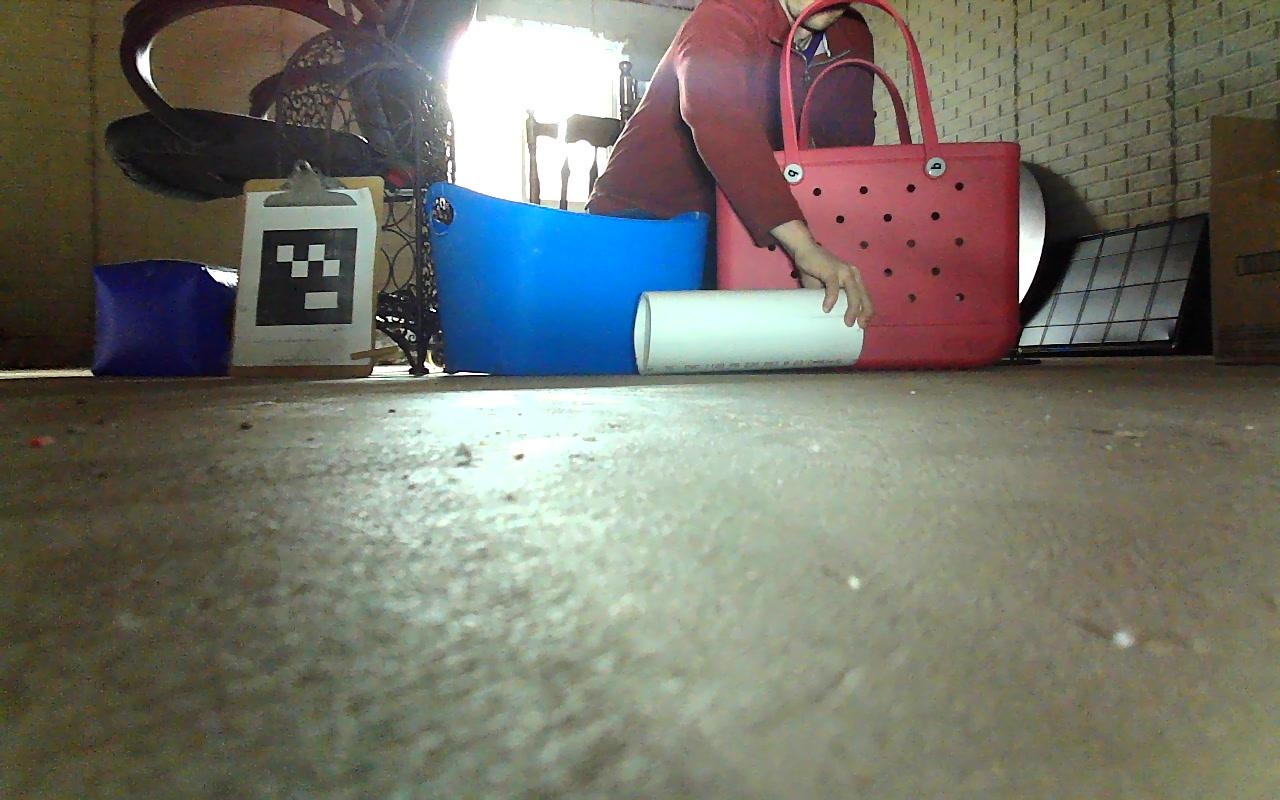coral: (630, 287, 869, 375)
